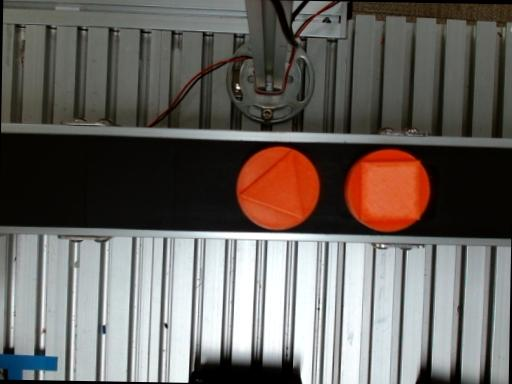Not_Square: (240, 148, 302, 219)
Orange_Waper: (345, 149, 430, 232), (237, 147, 319, 230)
Square: (361, 162, 420, 222)
